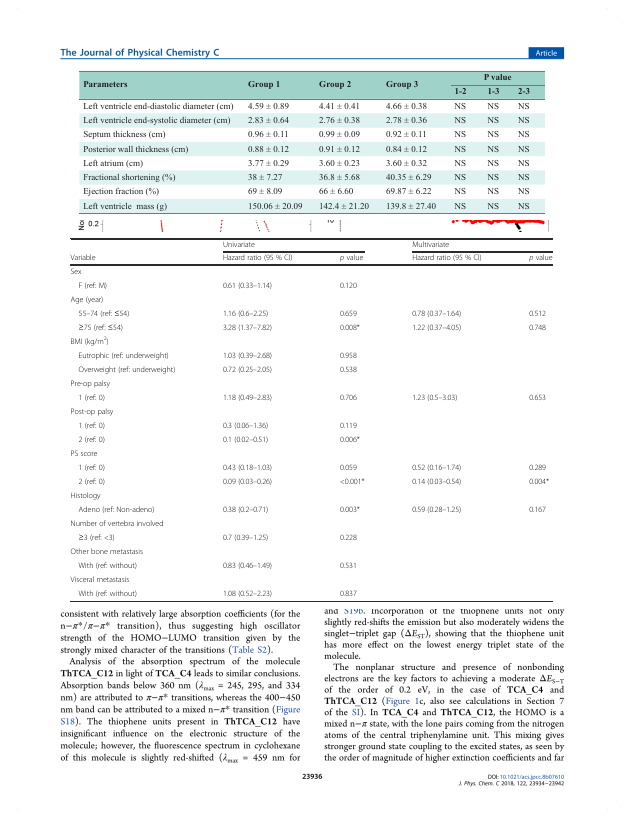borderless: (69, 237, 553, 601), (78, 69, 545, 213)
cell: (81, 102, 234, 112), (81, 116, 231, 126), (81, 145, 189, 155), (77, 365, 176, 375), (81, 173, 176, 183), (70, 519, 164, 529), (81, 130, 166, 141), (77, 351, 170, 361), (81, 202, 167, 212), (81, 187, 159, 198), (77, 505, 155, 515), (70, 547, 144, 557), (411, 254, 483, 264), (222, 254, 293, 264), (81, 159, 143, 169), (77, 561, 138, 571), (77, 589, 138, 599), (70, 575, 130, 585), (247, 202, 303, 212), (77, 309, 130, 319), (385, 187, 432, 198), (222, 281, 273, 291), (411, 309, 462, 319), (222, 323, 273, 333), (411, 323, 462, 333), (222, 351, 273, 361), (222, 365, 273, 375), (222, 393, 273, 403), (222, 463, 273, 473), (411, 463, 462, 473), (222, 477, 273, 487), (411, 477, 462, 487), (411, 505, 462, 515), (222, 561, 273, 571), (222, 589, 273, 599), (318, 202, 369, 212), (385, 202, 436, 212), (222, 309, 269, 319), (77, 323, 124, 333), (411, 393, 458, 403), (222, 421, 269, 431), (222, 435, 269, 445), (222, 505, 269, 515), (222, 533, 269, 543), (385, 173, 432, 183), (247, 130, 289, 141), (318, 130, 360, 141), (385, 130, 427, 141), (82, 81, 128, 91), (70, 336, 110, 347), (70, 407, 114, 417), (247, 102, 289, 112), (318, 102, 360, 112), (385, 102, 427, 112), (247, 116, 289, 126), (318, 116, 360, 126), (385, 116, 427, 126), (247, 145, 289, 155), (318, 145, 360, 155), (385, 145, 427, 155), (247, 159, 289, 169), (318, 159, 360, 169), (385, 159, 427, 169), (318, 173, 360, 183), (70, 379, 111, 389), (247, 187, 283, 198), (318, 187, 354, 198), (77, 533, 116, 543), (247, 173, 283, 183), (411, 241, 450, 250), (384, 81, 419, 91), (70, 295, 104, 305), (247, 81, 281, 91), (318, 81, 352, 91), (77, 281, 108, 291), (70, 491, 101, 501), (222, 241, 256, 250), (482, 74, 512, 84), (77, 393, 106, 403), (77, 421, 106, 431), (77, 435, 106, 445), (77, 463, 106, 473), (77, 477, 106, 487), (70, 449, 98, 459), (339, 477, 366, 487), (70, 254, 96, 264), (339, 254, 364, 264), (528, 254, 553, 264), (339, 323, 361, 333), (339, 435, 361, 445), (528, 477, 550, 487), (339, 505, 361, 515), (339, 281, 358, 291), (339, 309, 358, 319), (528, 309, 547, 319), (528, 323, 547, 333), (339, 351, 358, 361), (339, 365, 358, 375), (339, 393, 358, 403), (528, 393, 547, 403), (339, 421, 358, 431), (339, 463, 358, 473), (528, 463, 547, 473), (528, 505, 547, 515), (339, 533, 358, 543), (339, 561, 358, 571), (339, 589, 358, 599), (453, 130, 467, 141), (486, 130, 500, 141), (453, 187, 467, 198), (486, 187, 500, 198), (517, 130, 530, 141), (517, 187, 530, 198), (453, 88, 467, 98), (486, 88, 500, 98), (516, 88, 530, 98), (453, 102, 467, 112), (486, 102, 500, 112), (453, 116, 467, 126), (486, 116, 500, 126), (453, 145, 467, 155), (486, 145, 500, 155), (453, 159, 467, 169), (486, 159, 500, 169), (453, 173, 467, 183), (486, 173, 500, 183), (453, 202, 467, 212), (486, 202, 500, 212), (517, 102, 530, 112), (517, 116, 530, 126), (517, 145, 530, 155), (517, 159, 530, 169), (517, 173, 530, 183), (517, 202, 530, 212), (70, 267, 82, 277)
